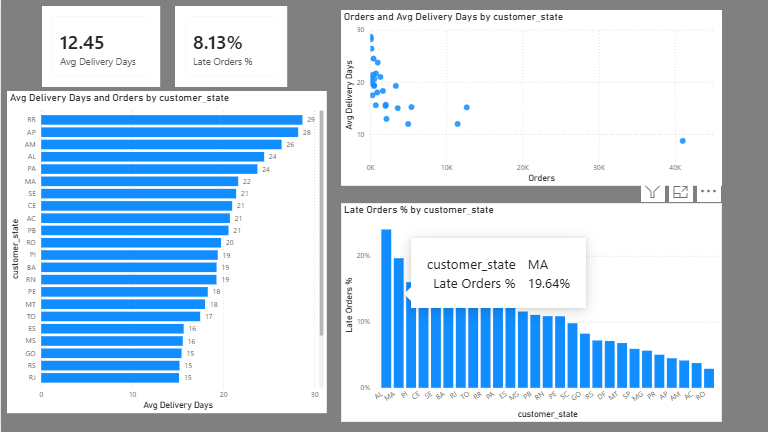

This screenshot's page, from the dashboard's own definition file:
{"tool":"powerbi","page":{"name":"Delivery Performance","canvas":[1280,720],"ordinal":2},"visuals":[{"type":"cardVisual","fields":{"Data":["fact_orders.Avg Delivery Days"]},"box":[68.3,10,196.7,135],"z":0},{"type":"cardVisual","fields":{"Data":["fact_orders.Late Orders %"]},"box":[290,10,186.7,135],"z":1},{"type":"clusteredBarChart","fields":{"Category":["fact_orders.customer_state"],"Y":["fact_orders.Avg Delivery Days"]},"box":[10,151.7,533.3,536.7],"z":2},{"type":"clusteredColumnChart","fields":{"Category":["fact_orders.customer_state"],"Y":["fact_orders.Late Orders %"]},"box":[566.7,338.3,635,365],"z":3},{"type":"scatterChart","fields":{"X":["fact_orders.Orders"],"Y":["fact_orders.Avg Delivery Days"],"Category":["fact_orders.customer_state"]},"box":[566.7,16.7,635,293.3],"z":4}]}

Visuals, with their boxes in screenshot pixels (x1, y1, x2, y2), scaled from the page's 1280x720 canvas onto the 768x432 screenshot:
cardVisual - fact_orders.Avg Delivery Days: x1=41, y1=6, x2=159, y2=87
cardVisual - fact_orders.Late Orders %: x1=174, y1=6, x2=286, y2=87
clusteredBarChart - fact_orders.customer_state x fact_orders.Avg Delivery Days: x1=6, y1=91, x2=326, y2=413
clusteredColumnChart - fact_orders.customer_state x fact_orders.Late Orders %: x1=340, y1=203, x2=721, y2=422
scatterChart - fact_orders.Orders x fact_orders.Avg Delivery Days: x1=340, y1=10, x2=721, y2=186
